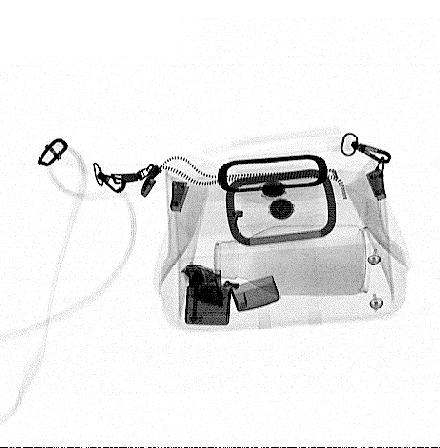Lighter: (185, 268, 280, 326)
